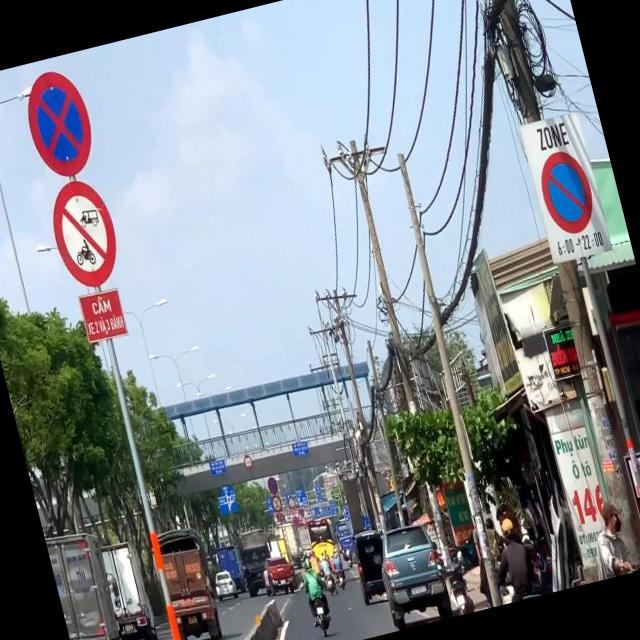P-104: (44, 175, 122, 292)
P-130: (18, 65, 100, 182)
